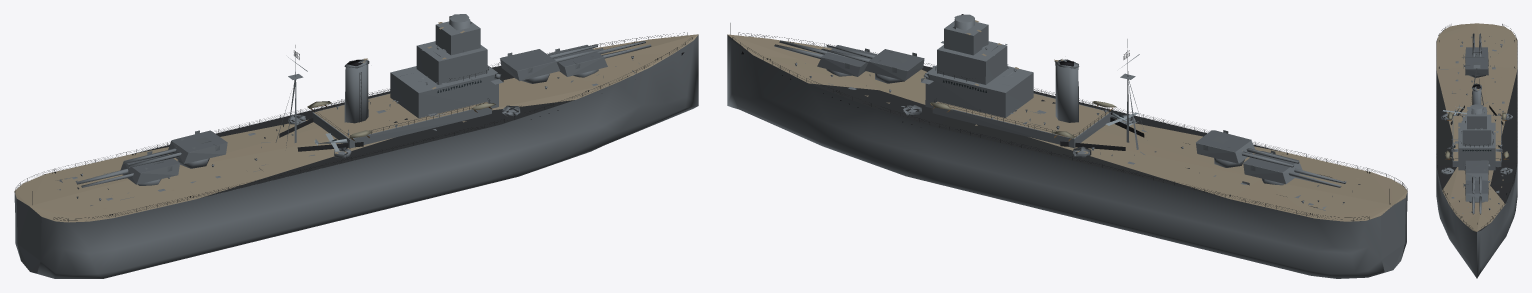
The model's file is queen_elizabeth_lod.glb.
3 renders of one model, left to right at view 1: azimuth 30°, elevation 25°; view 2: azimuth 150°, elevation 25°; view 3: azimuth 270°, elevation 25°, orthographic. The views are drawn at different scales.
Visible parts, largest first — view 1: queen_elizabeth_lod; view 2: queen_elizabeth_lod; view 3: queen_elizabeth_lod.
Boxes of the visible parts, x1,y1,x2,y2 form: queen_elizabeth_lod: [14, 14, 698, 278]; queen_elizabeth_lod: [727, 14, 1407, 278]; queen_elizabeth_lod: [1436, 23, 1517, 278].
Size of the model in its own units: 197 by 47.46 by 31.72.
